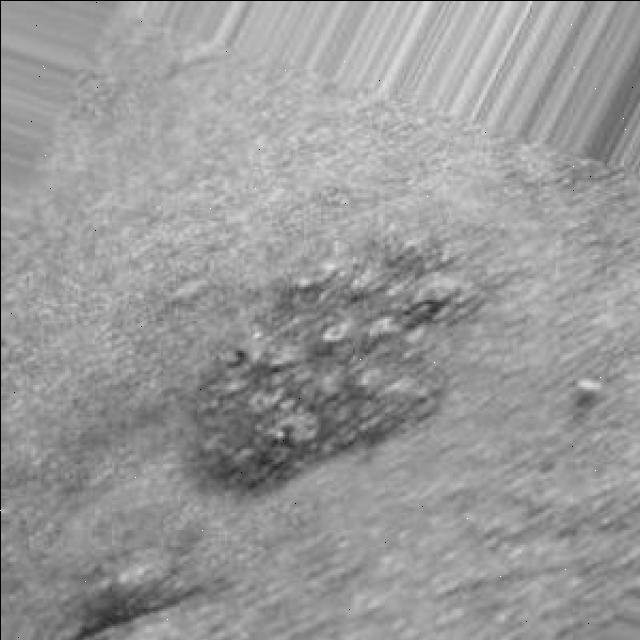Shingles: (193, 223, 475, 497)
